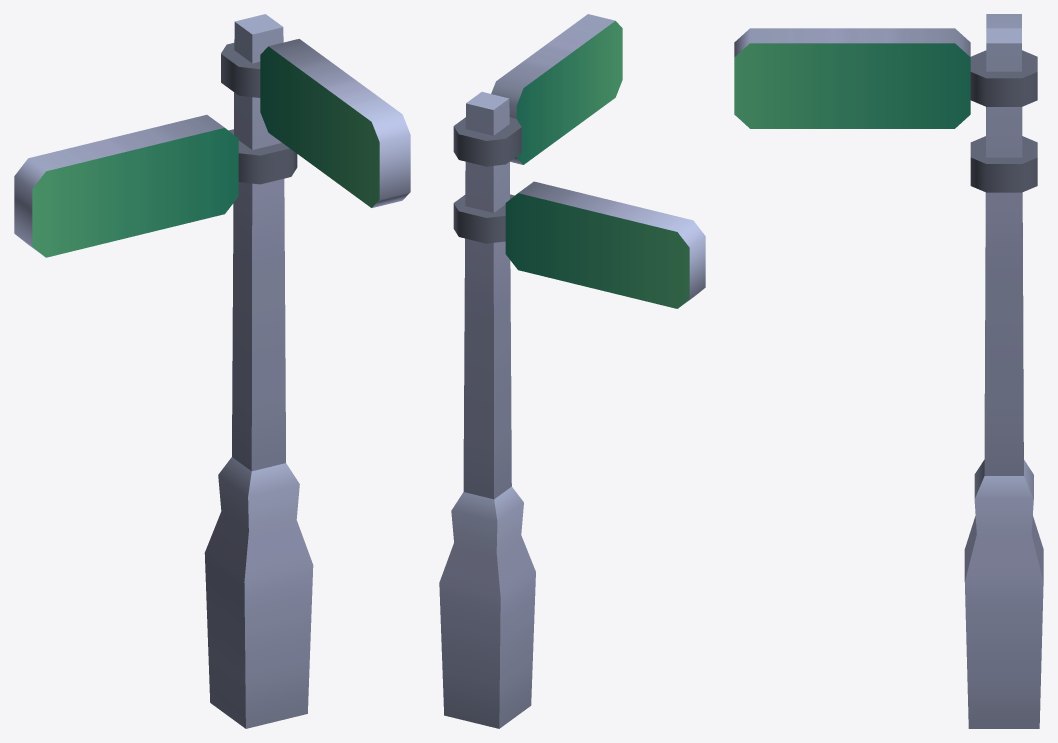
File: k-city-kit-roads-road-sign-street.glb
3 renders of one model, left to right at view 1: azimuth 30°, elevation 25°; view 2: azimuth 150°, elevation 25°; view 3: azimuth 270°, elevation 25°, orthographic. The views are drawn at different scales.
Parts seen in each view (by area): view 1: road-sign-street; view 2: road-sign-street; view 3: road-sign-street.
Boxes of the visible parts, left/top/right/bottom form: road-sign-street: left=14, top=14, right=410, bottom=728; road-sign-street: left=439, top=14, right=705, bottom=728; road-sign-street: left=734, top=14, right=1043, bottom=728.
Bounding box in the file's own units: 0.1962 × 0.475 × 0.1962.
Materials: 1 (1 with a texture image).
